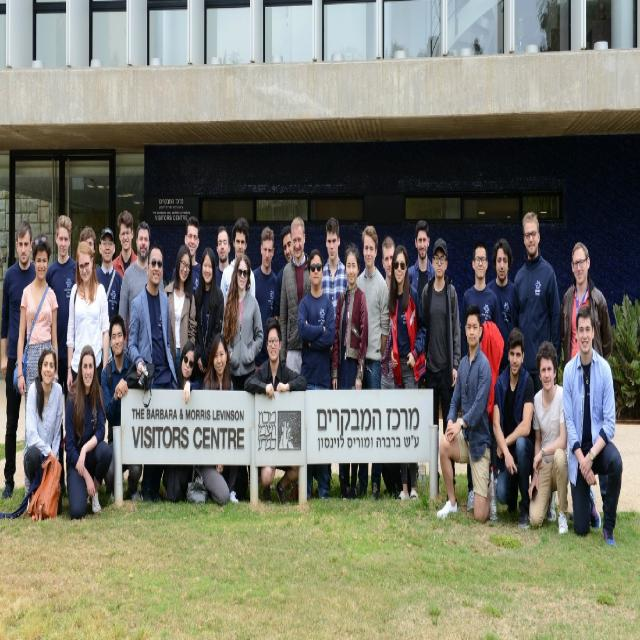body: (561, 303, 624, 552), (435, 299, 492, 526), (15, 234, 59, 515), (244, 317, 307, 506), (459, 238, 502, 514), (418, 235, 462, 503), (0, 218, 38, 502), (296, 247, 336, 504), (387, 243, 426, 503), (331, 240, 370, 500), (354, 223, 390, 497), (513, 210, 563, 396), (64, 341, 114, 524), (490, 324, 536, 522), (526, 338, 571, 538), (44, 213, 77, 483), (99, 312, 143, 504), (126, 243, 178, 391), (22, 344, 64, 518), (65, 238, 111, 396), (199, 332, 240, 506), (117, 218, 167, 359), (560, 238, 613, 366), (378, 235, 403, 500), (222, 251, 264, 392), (278, 215, 310, 376), (162, 243, 197, 390), (278, 222, 311, 374), (193, 245, 225, 383), (252, 225, 280, 368), (486, 239, 515, 377), (111, 208, 139, 346), (218, 216, 256, 312), (320, 215, 350, 321), (95, 226, 124, 322), (171, 214, 203, 298), (406, 218, 437, 302), (177, 338, 202, 406), (213, 224, 232, 288), (79, 223, 97, 266)
